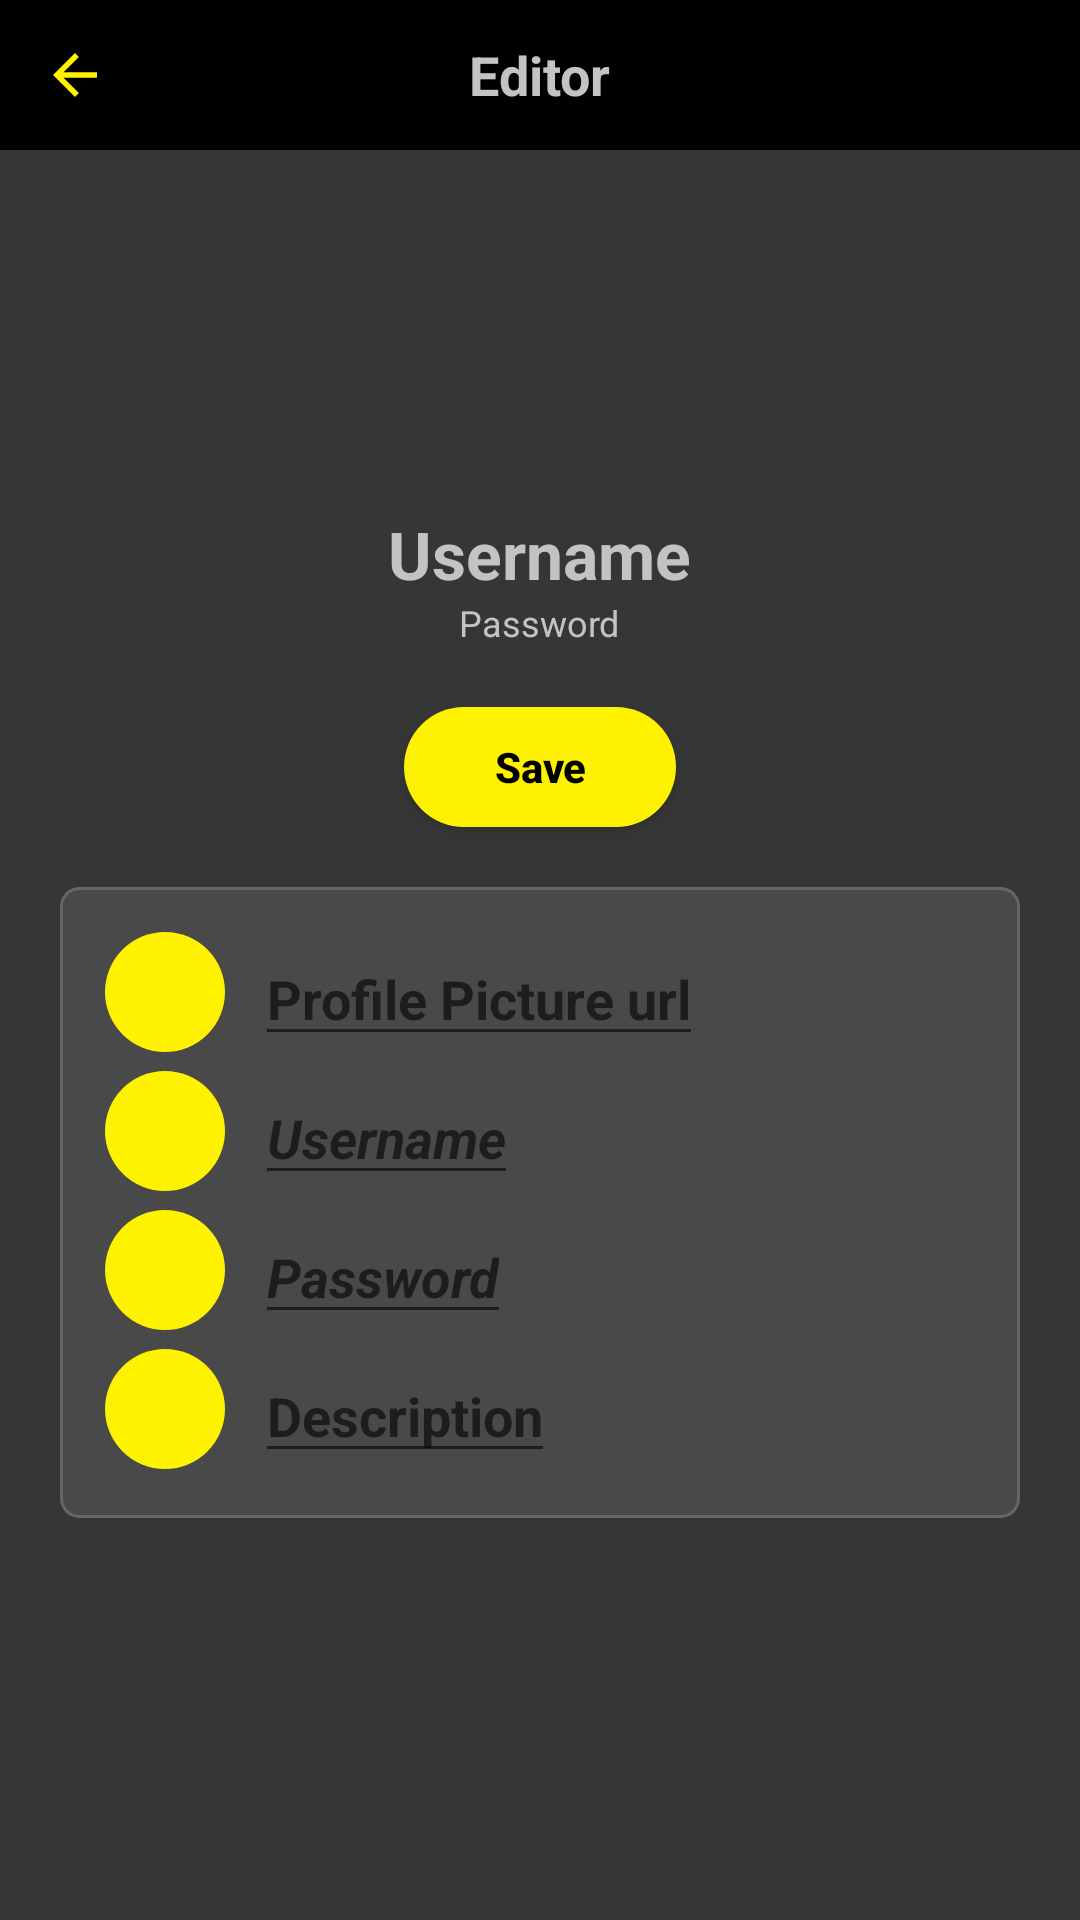

Icon click points for this 1080 × 1920 phone screenshot, format point (x, y):
back: point (75, 75)
